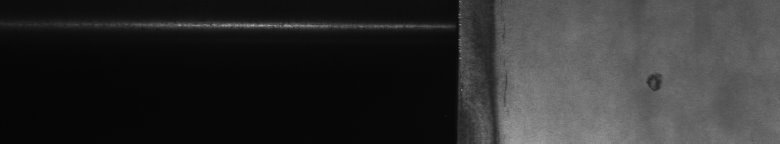fi: (644, 72, 662, 92)
